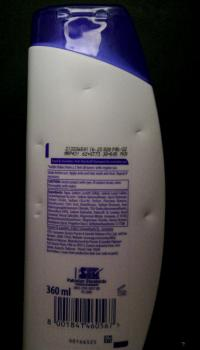dent_marginal: (77, 82, 101, 94), (138, 208, 155, 224), (130, 128, 145, 138), (33, 197, 45, 209), (30, 210, 44, 220), (34, 139, 45, 150)
